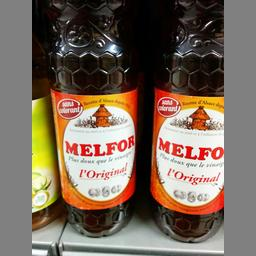vinegar: (42, 0, 142, 239), (148, 0, 222, 245)
